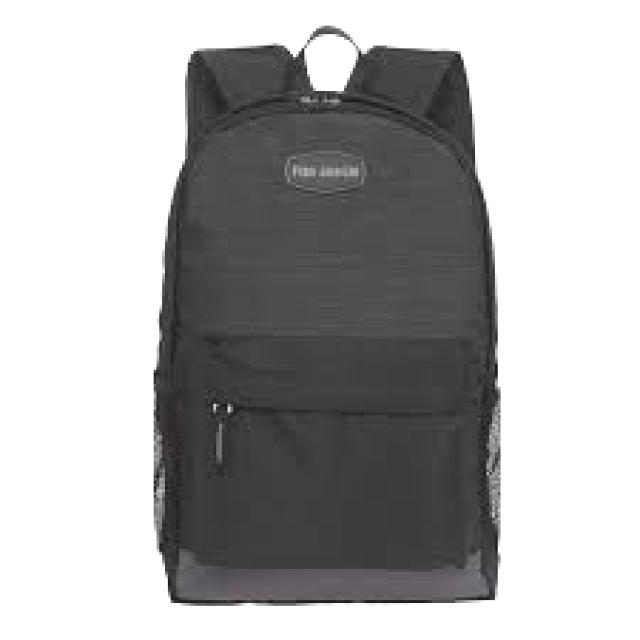backpack: (152, 24, 502, 604)
